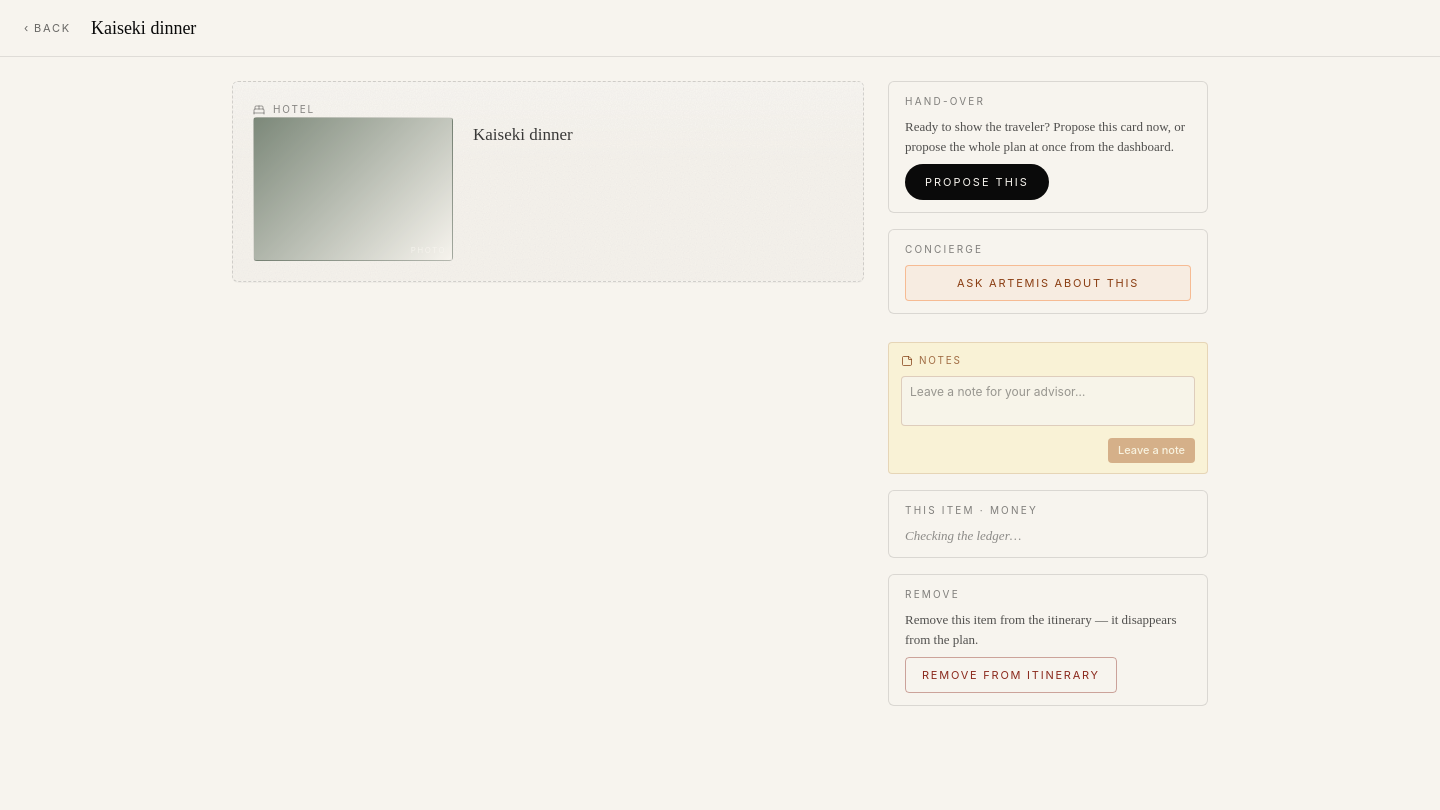
Test: CardDetailView · per-card hand-over (ADV-10) › clicking 'Propose this' flips the card idea → proposed at the seam
This screenshot has width=1440, height=810.
Click the button with test id "card-detail-propose-node". click: (977,182)
box: [905,164,1049,200]
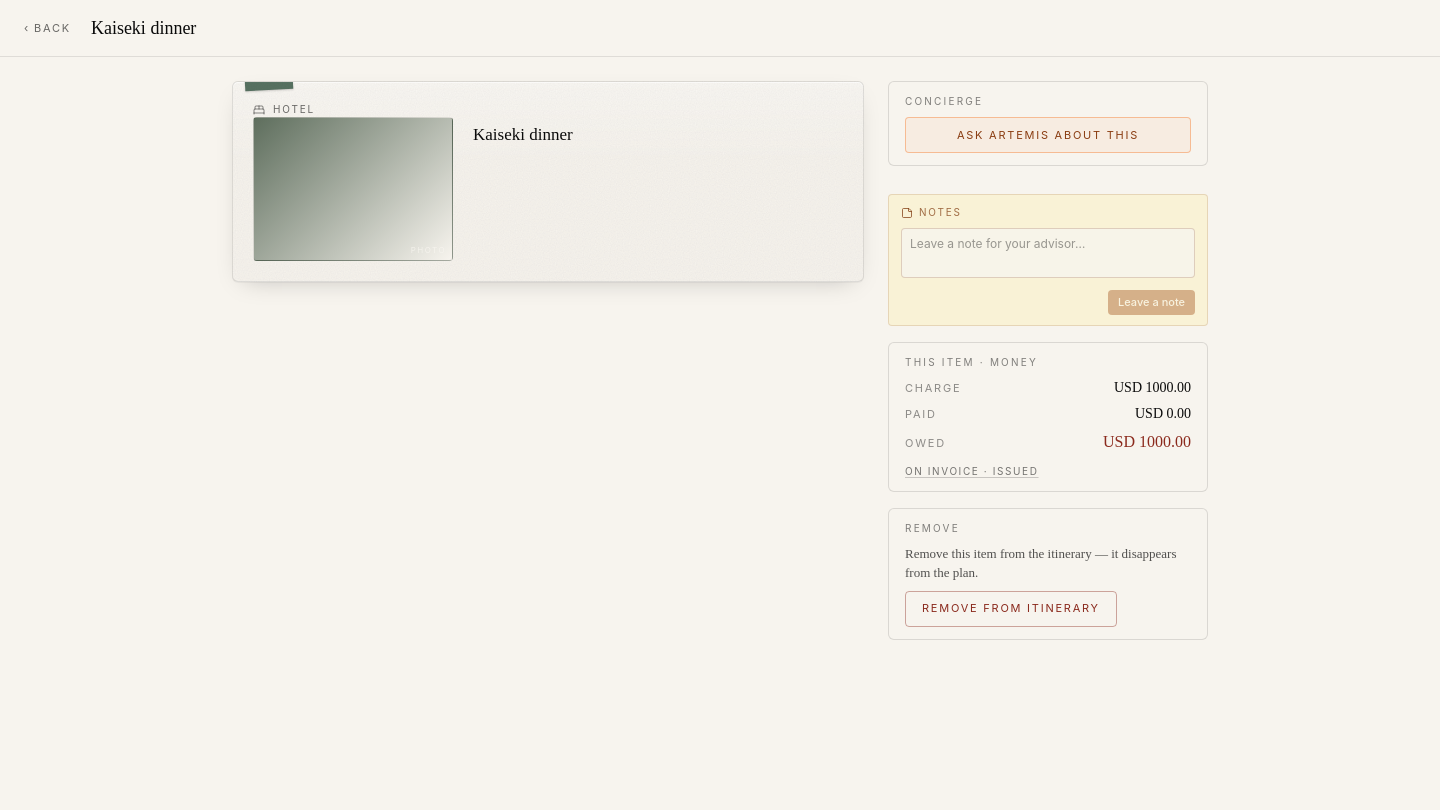
Result: the button with test id "card-detail-propose-node" is gone
